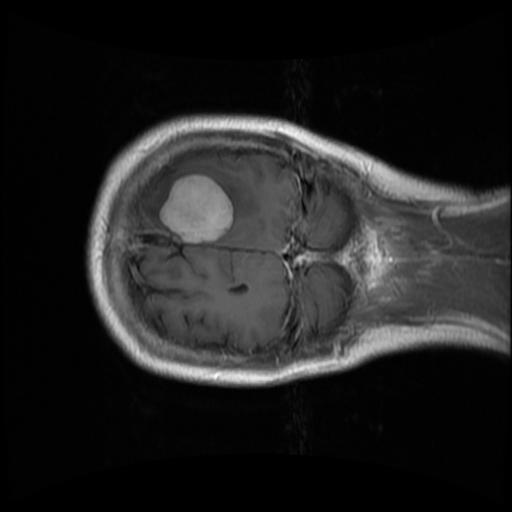meningioma: (158, 174, 233, 244)
